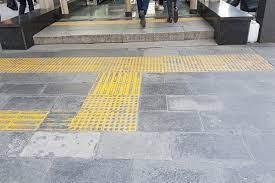guide_blocks: (1, 53, 275, 73), (4, 109, 138, 132), (82, 74, 140, 108)
